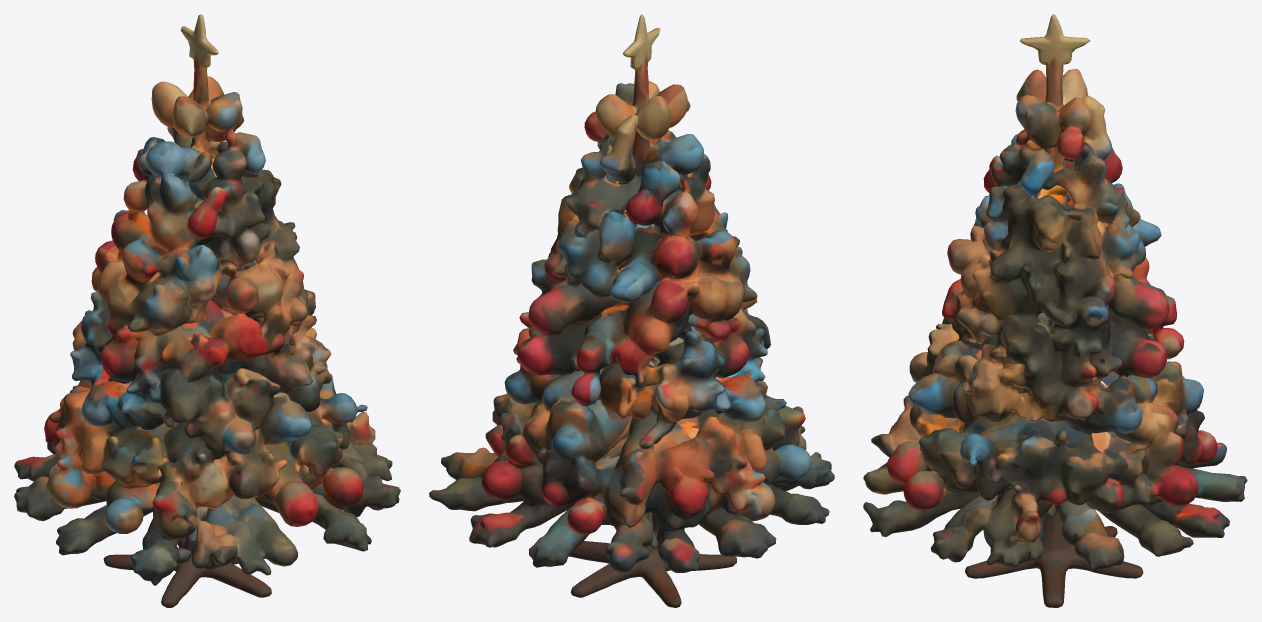
File: ornaments.glb
The picture shows the model from 3 angles, left to right: view 1: azimuth 30°, elevation 25°; view 2: azimuth 150°, elevation 25°; view 3: azimuth 270°, elevation 25°; orthographic projection.
Parts seen in each view (by area): view 1: tripo_node_9fb4a3b4-0674-4ae7-be12-ecf50bcdc9a6; view 2: tripo_node_9fb4a3b4-0674-4ae7-be12-ecf50bcdc9a6; view 3: tripo_node_9fb4a3b4-0674-4ae7-be12-ecf50bcdc9a6.
Boxes of the visible parts, x1,y1,x2,y2 form: tripo_node_9fb4a3b4-0674-4ae7-be12-ecf50bcdc9a6: (14,14,400,607); tripo_node_9fb4a3b4-0674-4ae7-be12-ecf50bcdc9a6: (429,14,834,607); tripo_node_9fb4a3b4-0674-4ae7-be12-ecf50bcdc9a6: (863,14,1247,607).
Size of the model in its own units: 0.6001 by 0.9465 by 0.5968.
1 material, 1 textured.
